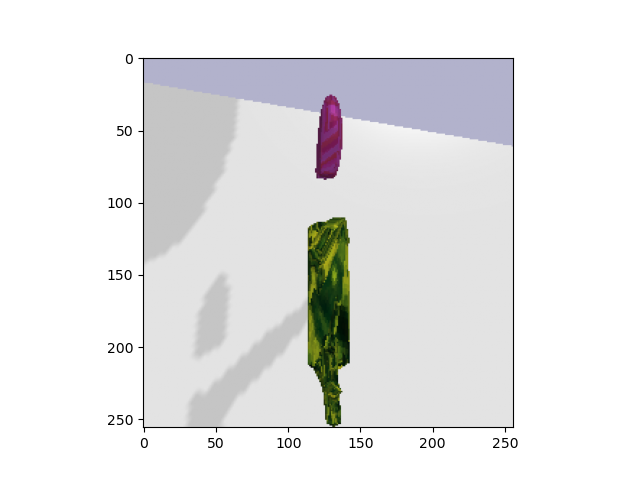v249b387_105: (307, 94, 350, 185)
v249b387_108: (302, 210, 362, 429)
